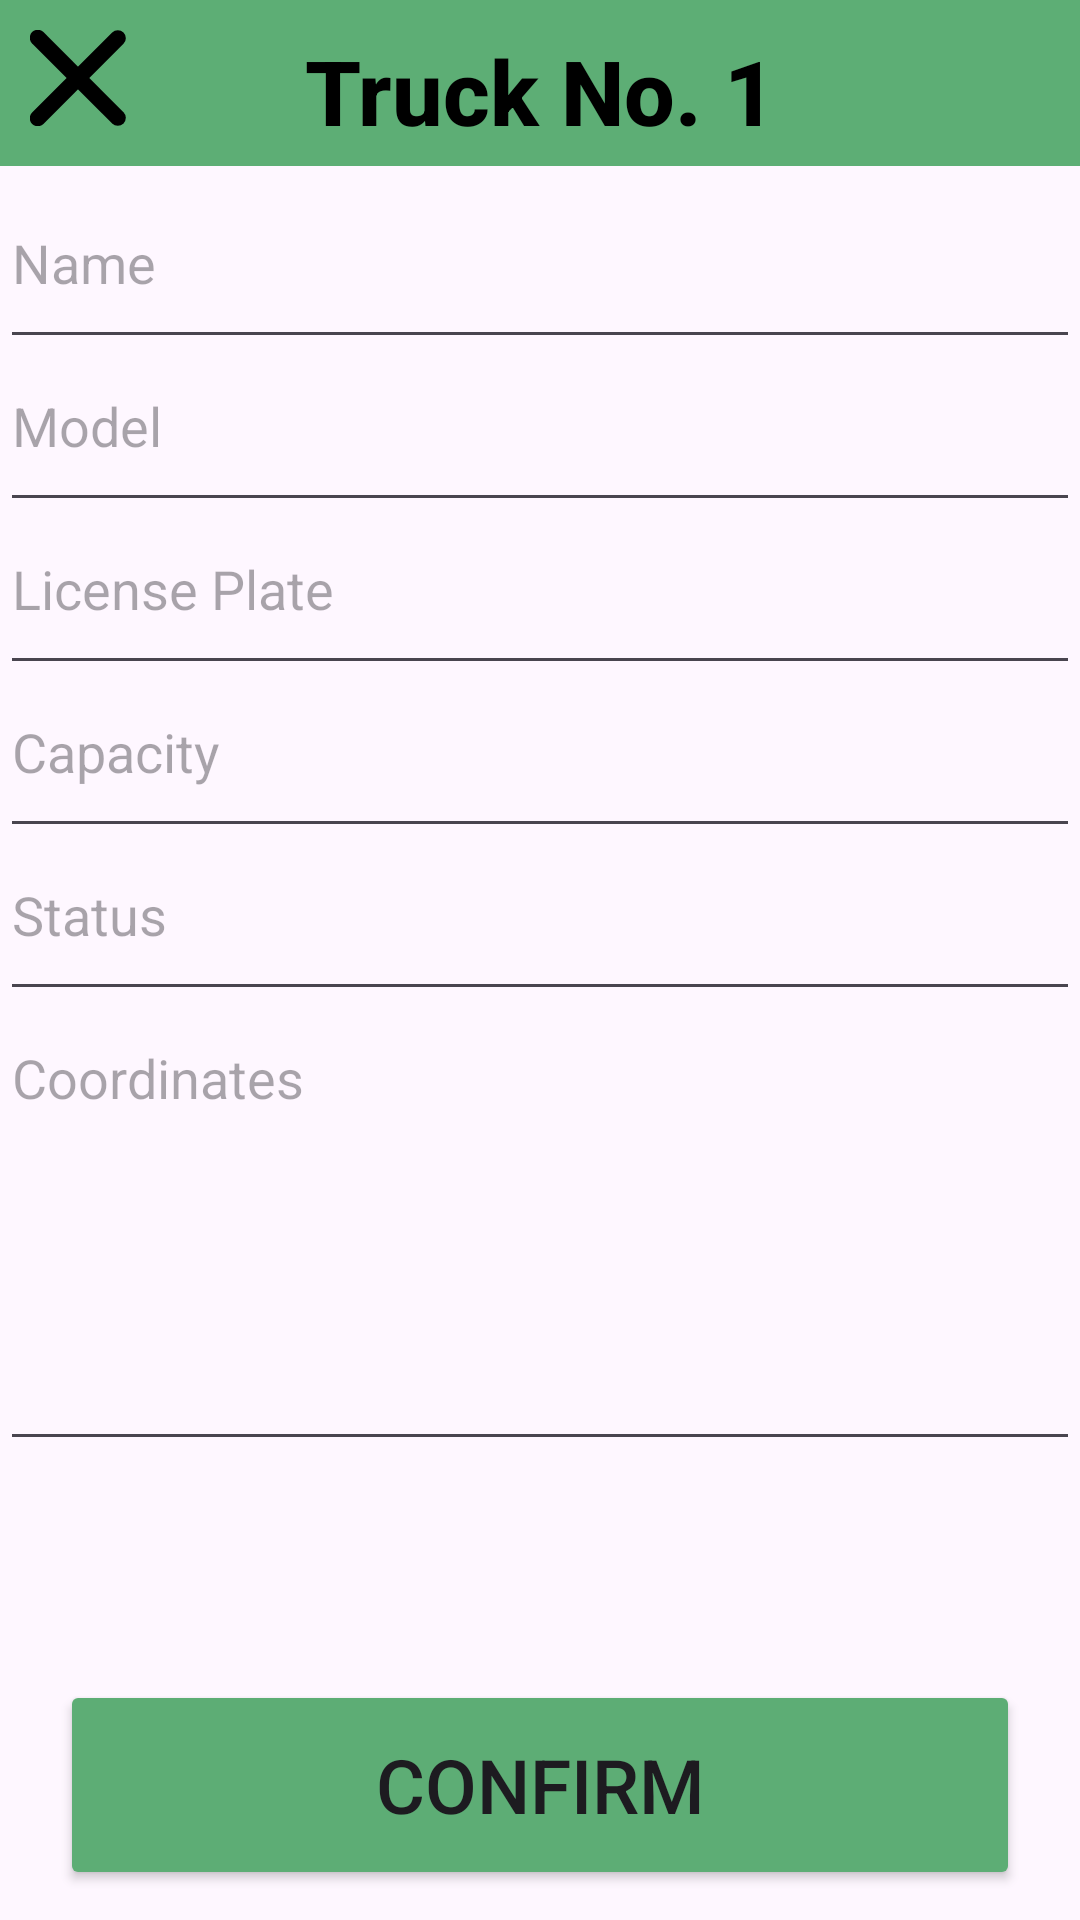

Screen size 1080×1920. Icon name, then its center in pixels as (x=x, y=y):
close: (x=78, y=78)
